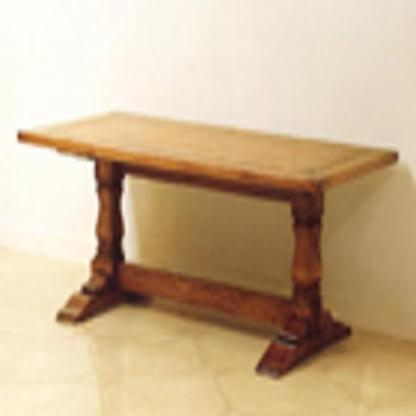Table: (13, 87, 402, 402)
